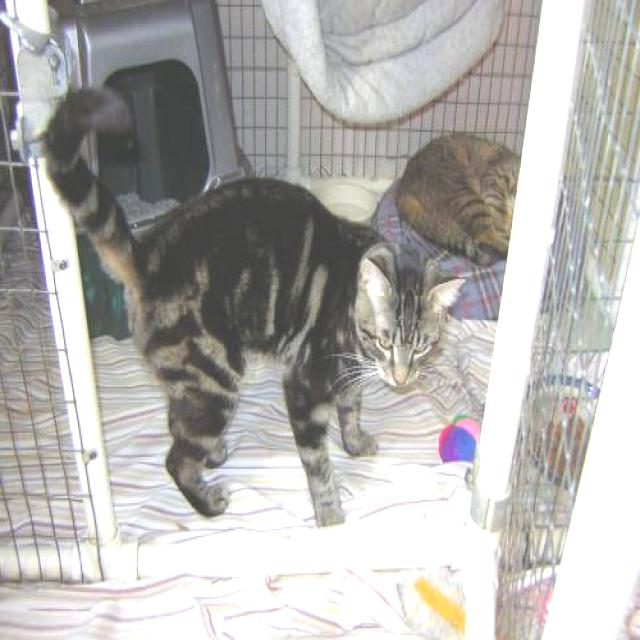Kucing: (89, 231, 483, 494)
